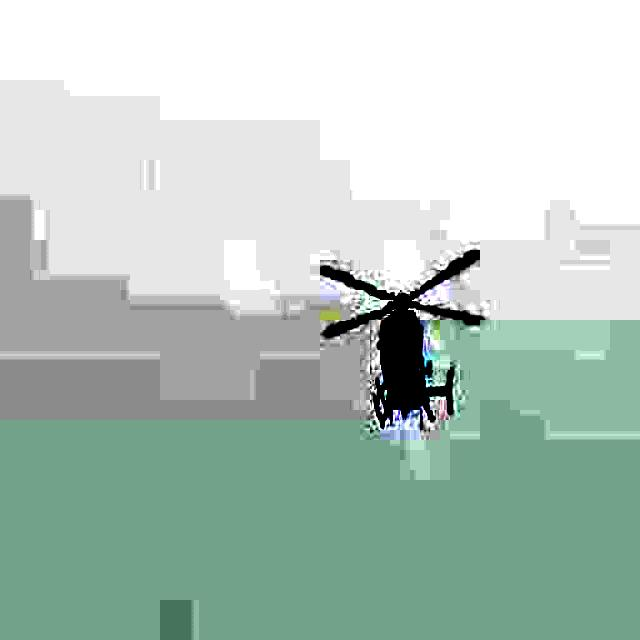drone: (302, 230, 506, 450)
